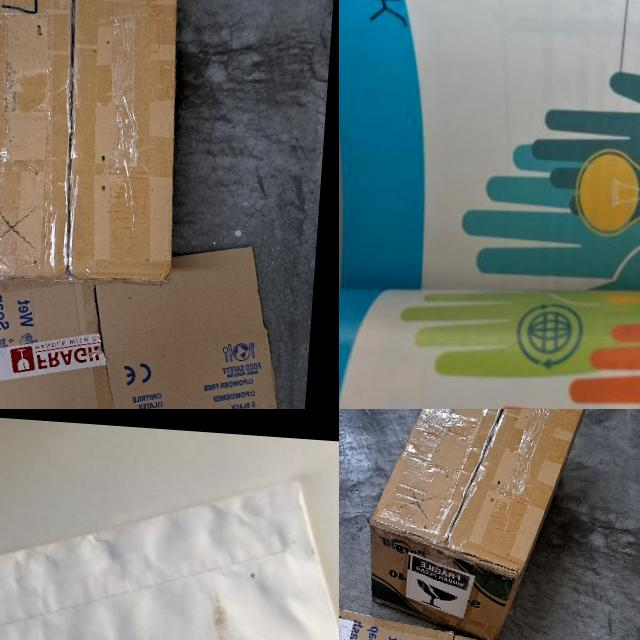papel: (339, 0, 640, 409), (0, 451, 339, 640)
papelão: (0, 219, 306, 409), (0, 0, 197, 290), (365, 409, 598, 640)
